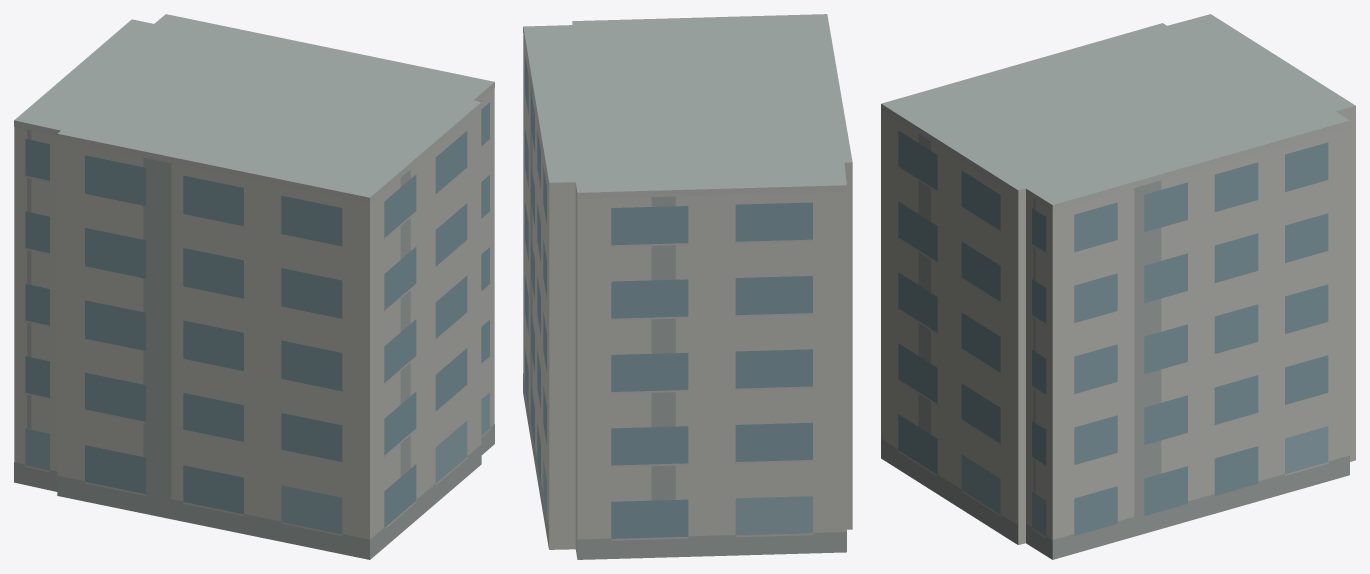
The model's file is survey-upis-32892465.glb.
3 renders of one model, left to right at view 1: azimuth 30°, elevation 25°; view 2: azimuth 150°, elevation 25°; view 3: azimuth 270°, elevation 25°, orthographic. The views are drawn at different scales.
Parts seen in each view (by area): view 1: survey-upis-32892465.tmp; view 2: survey-upis-32892465.tmp; view 3: survey-upis-32892465.tmp.
Part boxes in pixels (bbox=[...]): survey-upis-32892465.tmp: bbox=[14, 14, 494, 559]; survey-upis-32892465.tmp: bbox=[523, 14, 852, 559]; survey-upis-32892465.tmp: bbox=[881, 14, 1355, 559].
Bounding box in the file's own units: 16.19 × 14 × 16.99.
